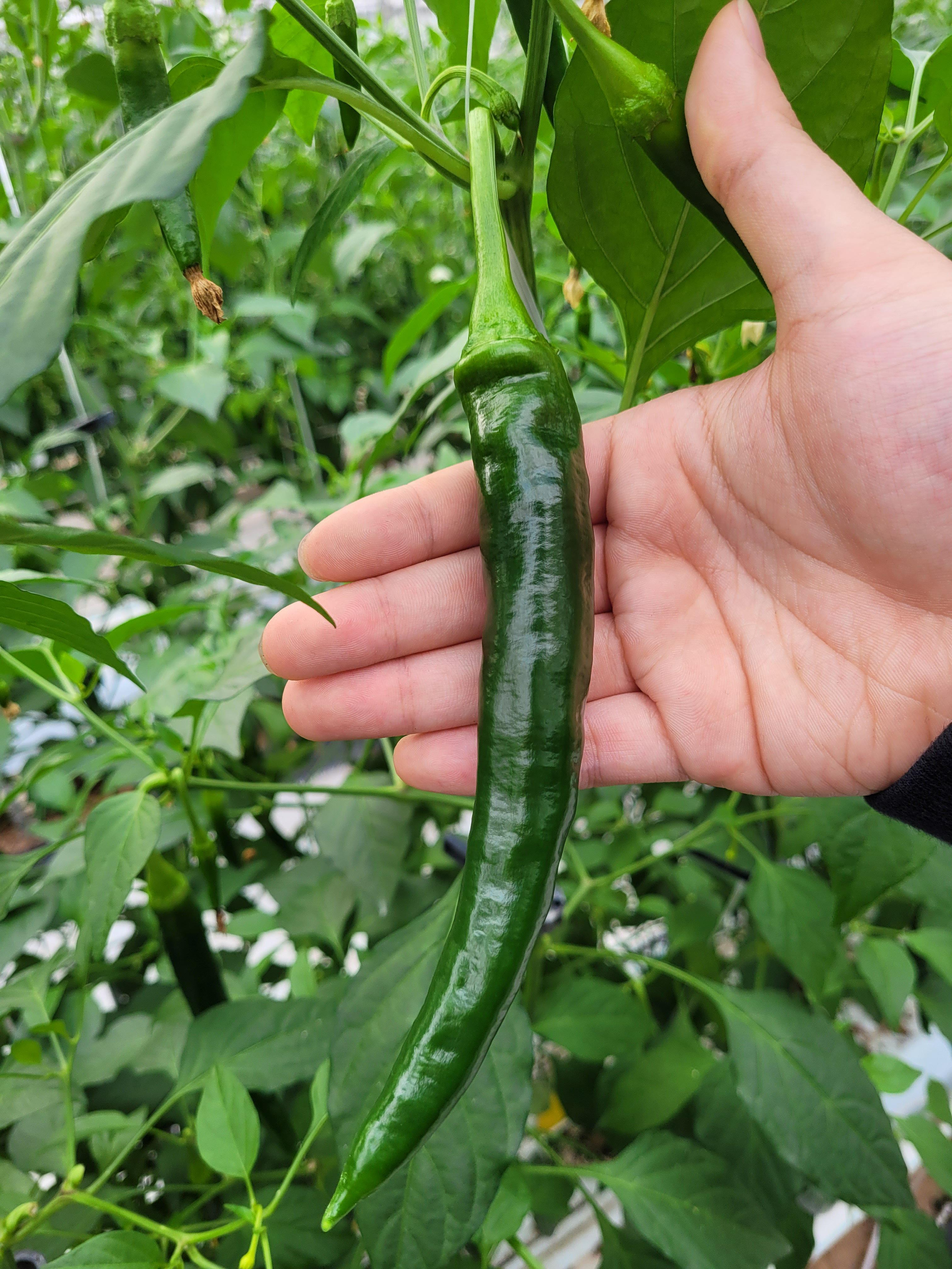Buah Cabai Sehat: (315, 284, 598, 1233)
